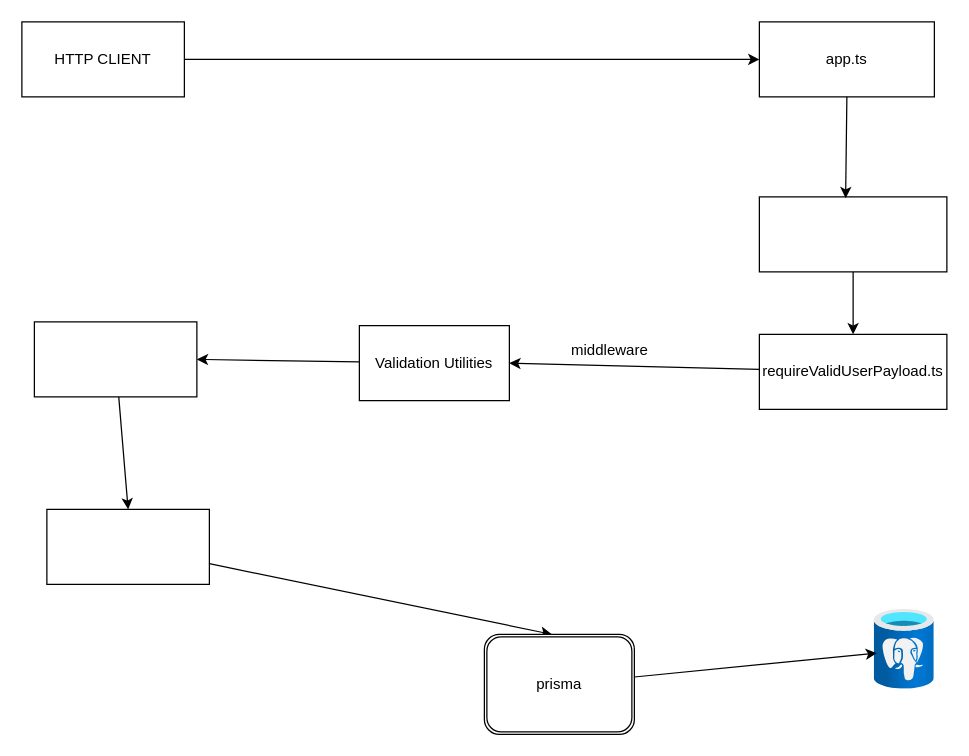
This 969x756 diagram has some shape labels left out. The centre of each missing label's shape, as x and y in pixels:
express: point (852, 234)
user.routes.ts: point (115, 359)
userServices.ts: point (127, 546)
